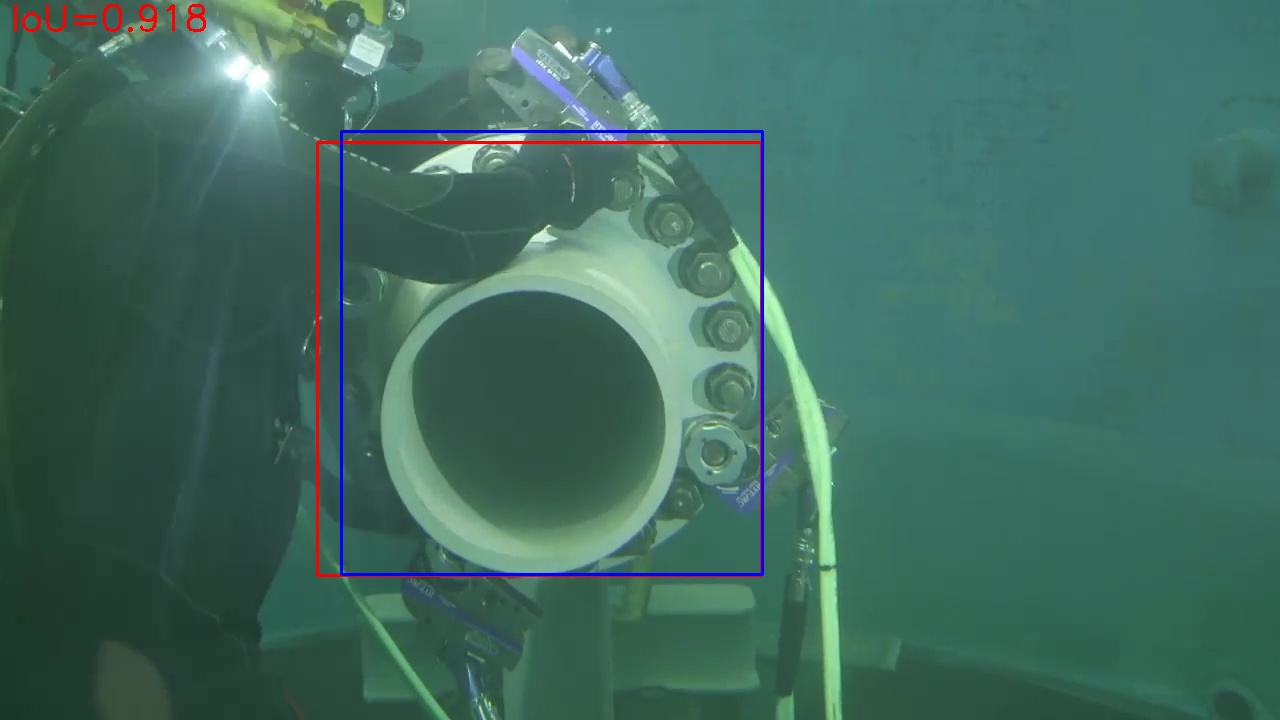flange joint: (318, 143, 762, 576)
